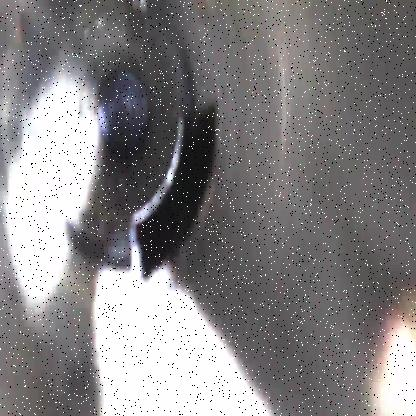Crack2: (135, 93, 223, 286)
